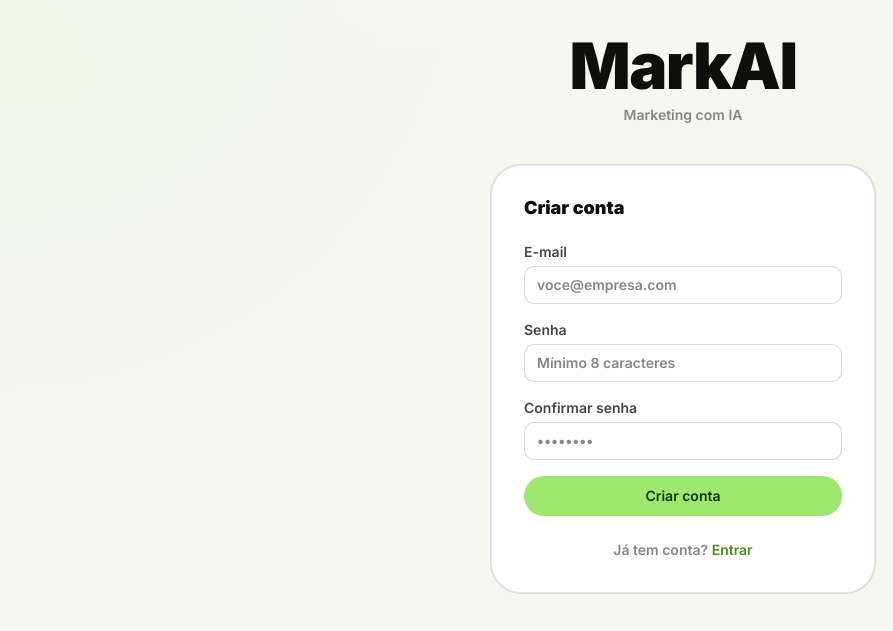
RegisterPage › shows error when passwords do not match
The image size is (893, 631).
Type "password123" into the password field labelled "Senha" at (683, 363), box [524,344,842,382]
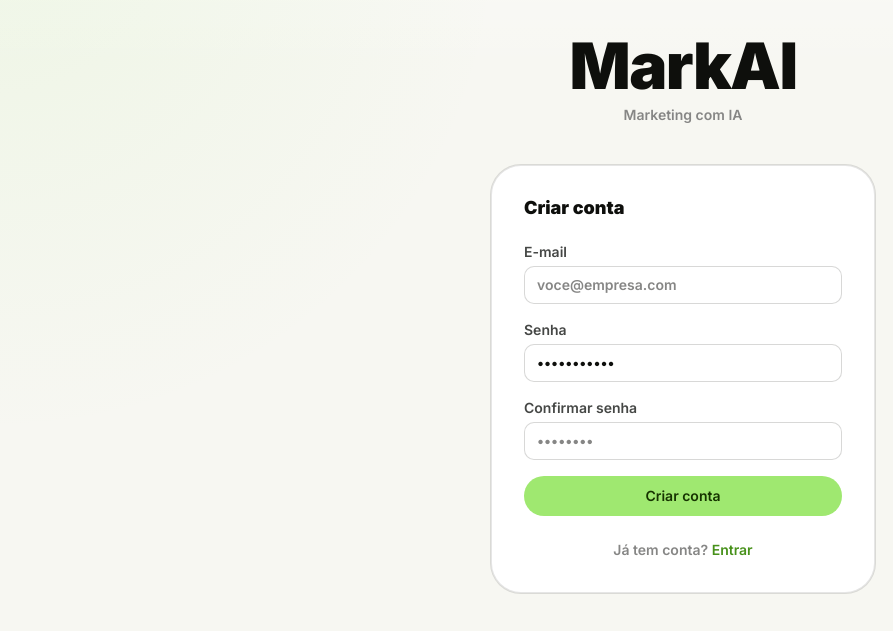
Type "different" into the password field labelled "Confirmar senha" at (683, 441), box [524,422,842,460]
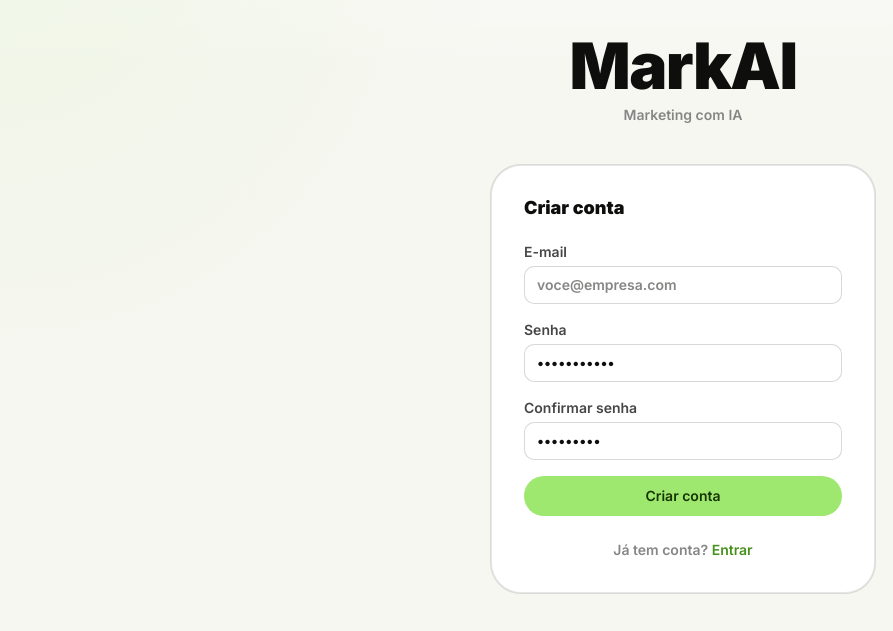
Submit the form from the button "Criar conta", box [524,476,842,516]
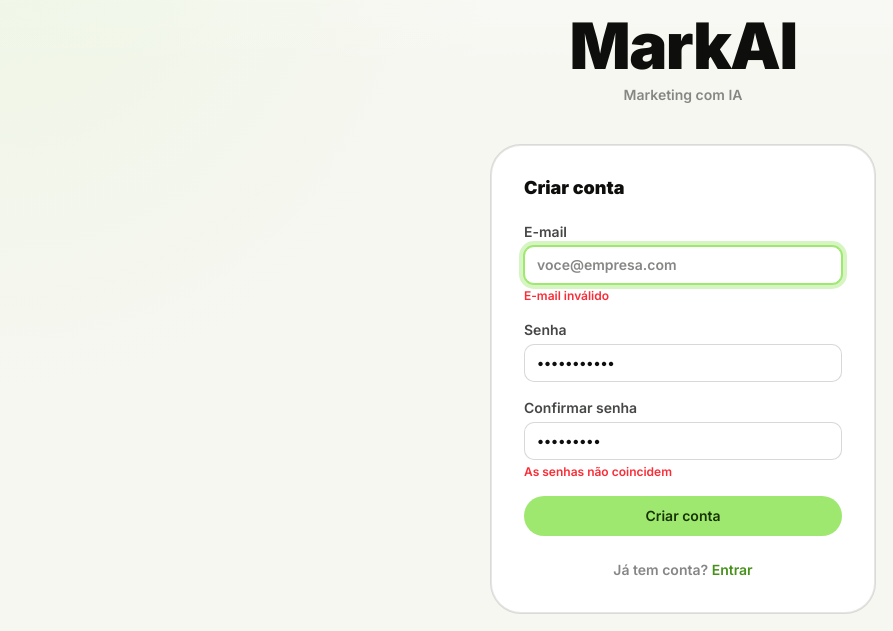
Now the text "As senhas não coincidem" is shown, box [524,464,672,479]
